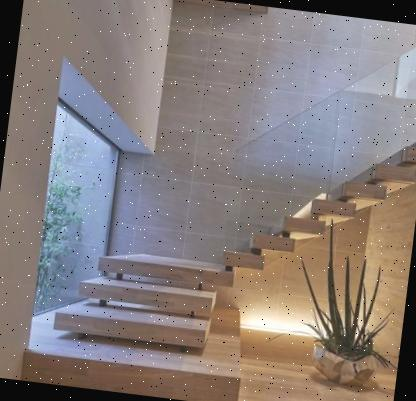stair: (217, 112, 416, 292), (43, 224, 235, 358)
